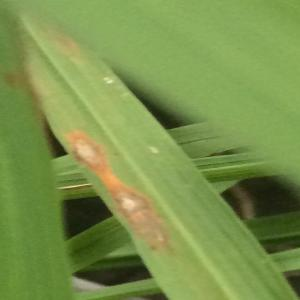Rice_Blast: (97, 177, 181, 251), (62, 117, 110, 172)
